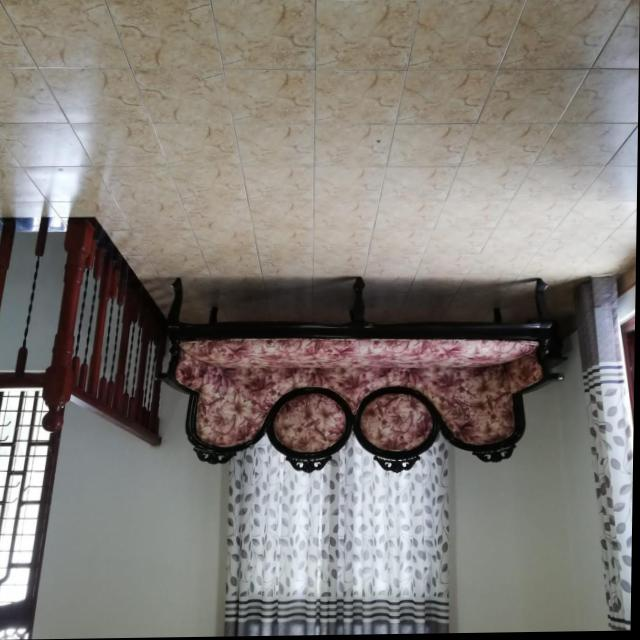Sofa: (155, 279, 569, 479)
